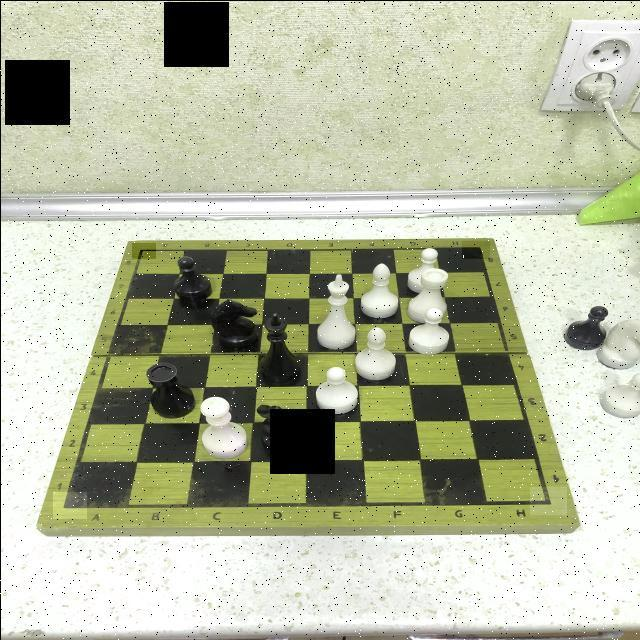chess-table-corners: (529, 486, 566, 514), (52, 491, 86, 518), (461, 240, 489, 258), (131, 242, 155, 258)
